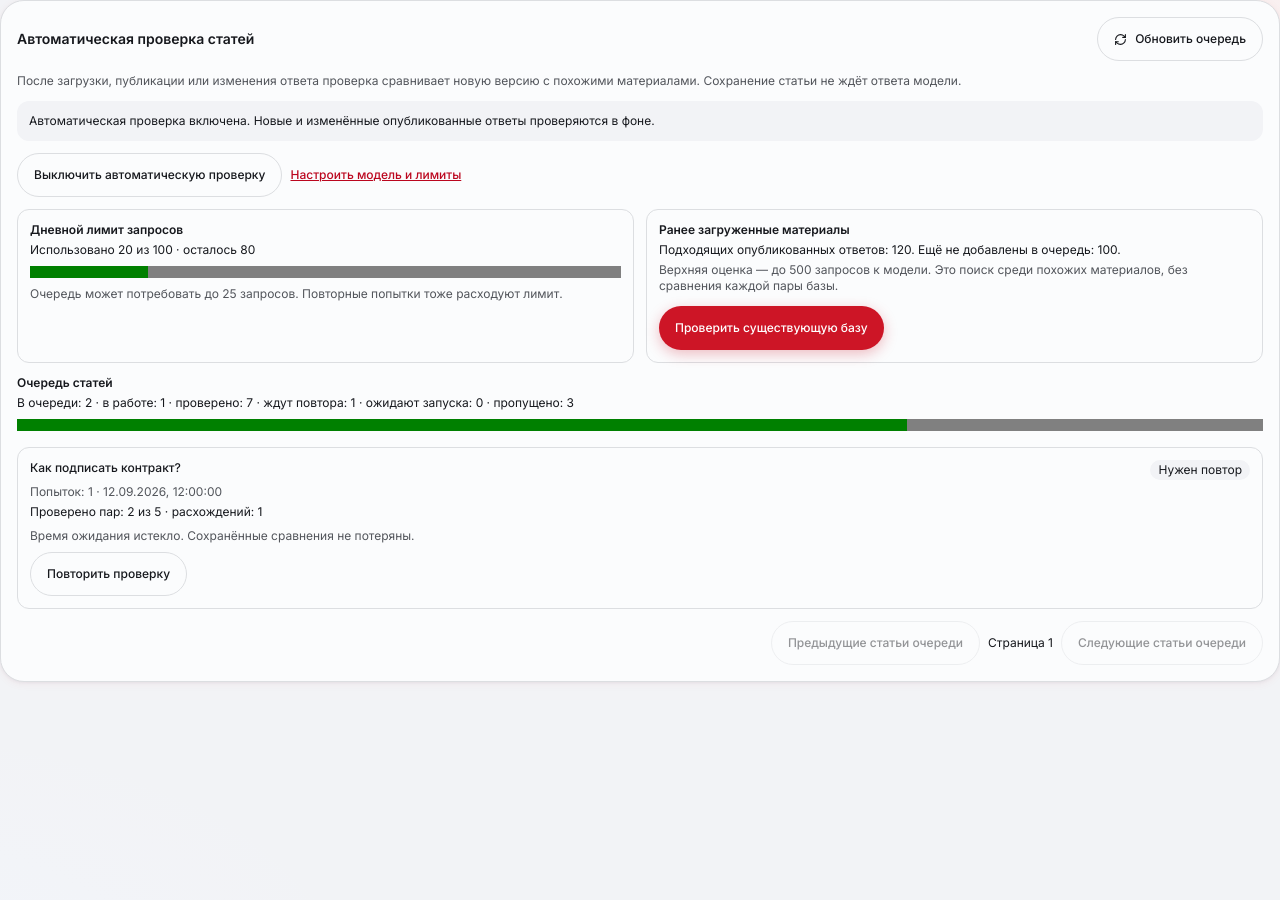
Автоматическая проверка базы знаний › повтор ставит только выбранную статью и обновляет состояние
Click the button with aria-label "Повторить: Как подписать контракт?".
click(109, 574)  # box 30,552 -> 187,596
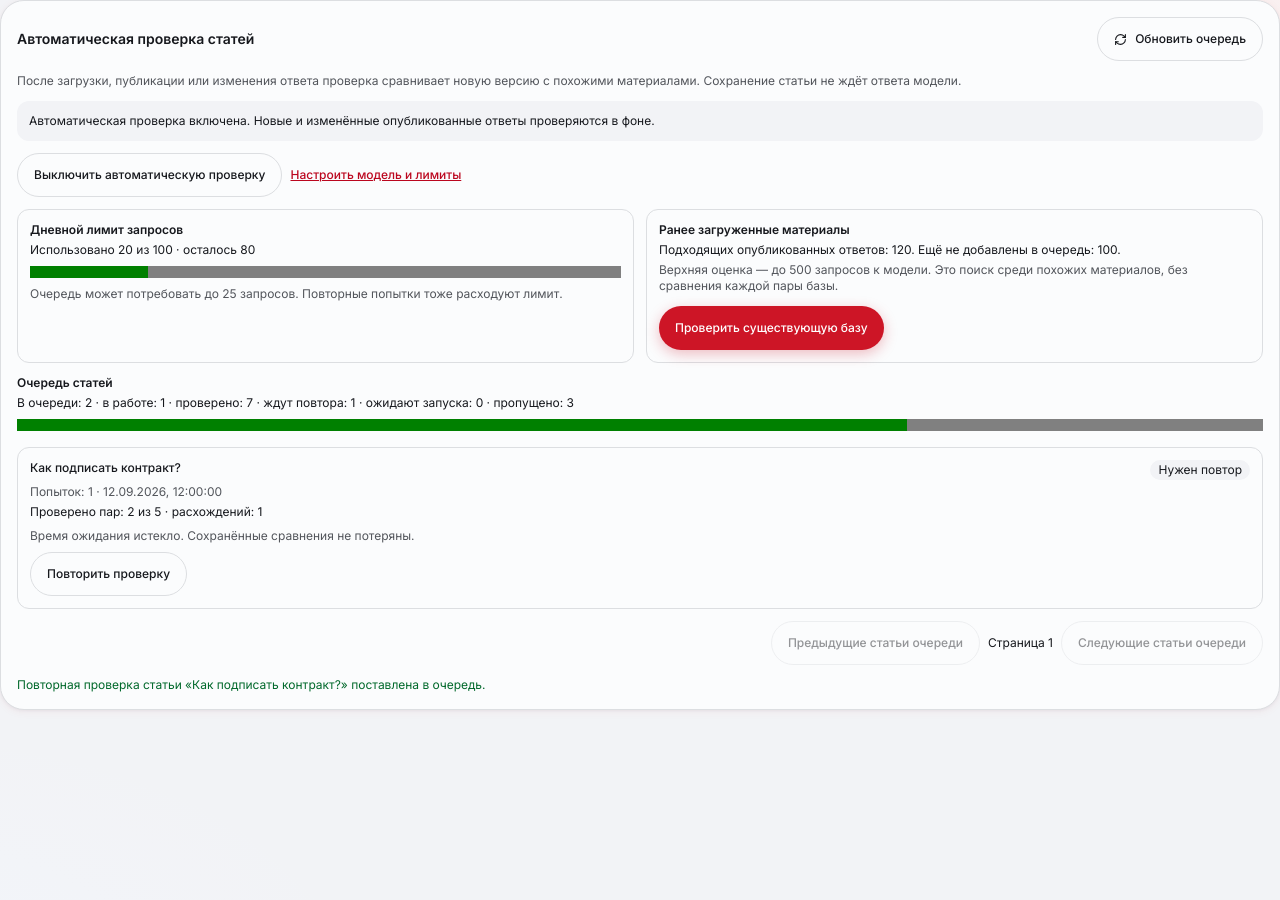
Result: the text "Повторная проверка статьи «Как подписать контракт?» поставлена в очередь." is shown at 17,677 -> 486,692
